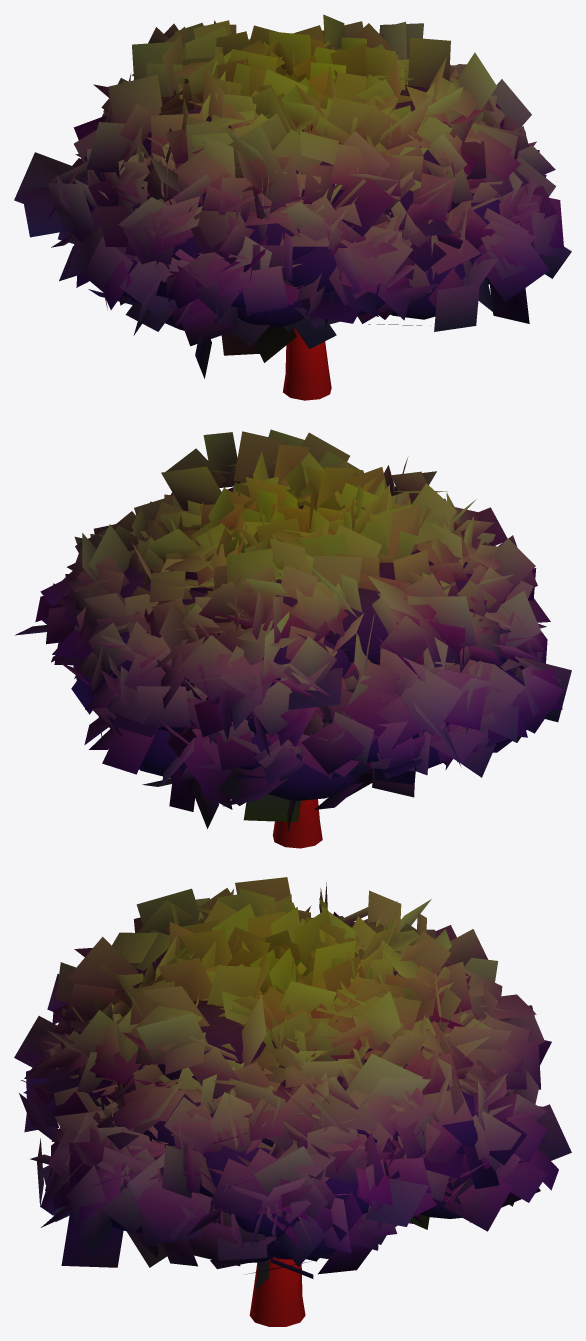
The model's file is Oak_B.fbx.
The picture shows the model from 3 angles, top to bottom: view 1: azimuth 30°, elevation 25°; view 2: azimuth 150°, elevation 25°; view 3: azimuth 270°, elevation 25°; orthographic projection. The views are drawn at different scales.
Visible parts, largest first — view 1: Oak_B_LOD0; view 2: Oak_B_LOD0; view 3: Oak_B_LOD0.
Boxes of the visible parts, left/top/right/bottom form: Oak_B_LOD0: left=14, top=14, right=571, bottom=400; Oak_B_LOD0: left=15, top=429, right=571, bottom=848; Oak_B_LOD0: left=14, top=877, right=571, bottom=1326.
Size of what is drawn, in the model's own units: 14.99 by 10.89 by 14.23.
